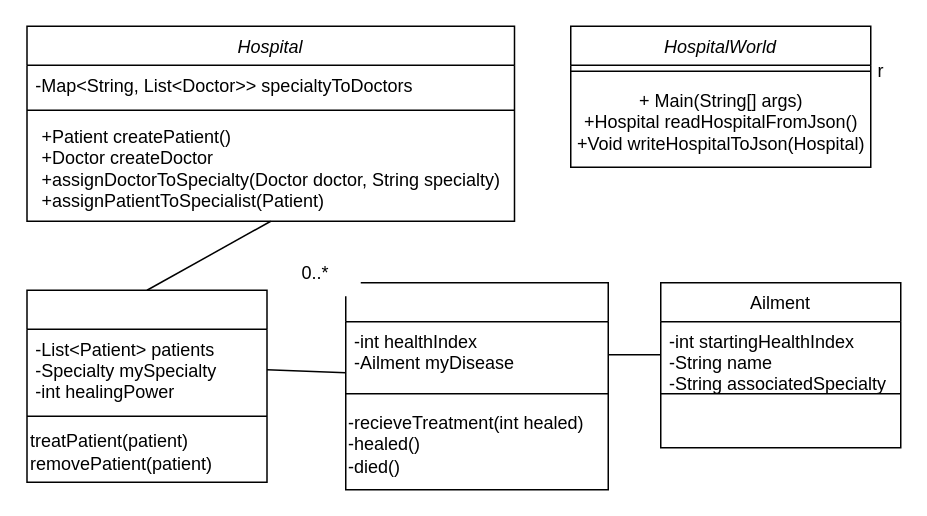
Image size: 927x516. Some labels were removed from this diagram. Here are the shapes that lost their labels. From the top down, the box of each, then its label:
(26, 289, 267, 482): Doctor
(344, 281, 608, 490): Patient
